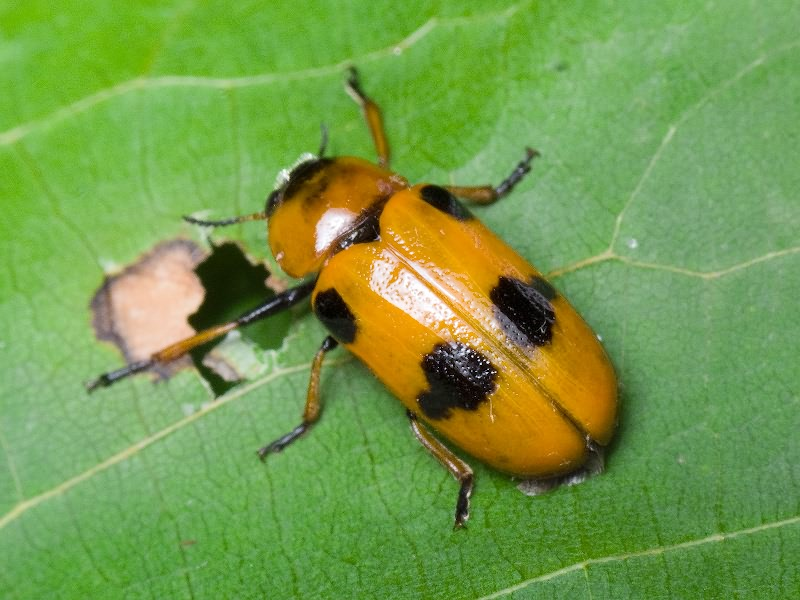Tituboea_macropus: (73, 54, 642, 542)
